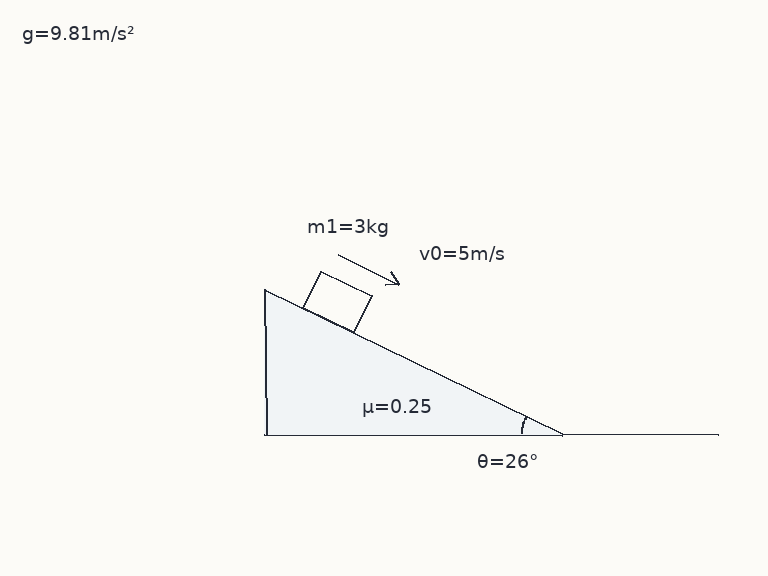block: (301, 269, 373, 334)
ramp: (263, 287, 564, 436)
